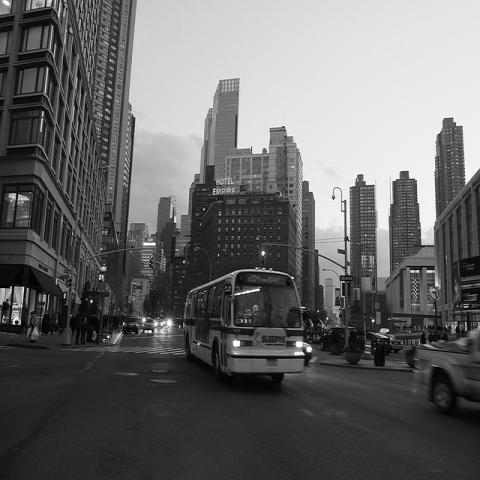bus: (182, 268, 308, 380)
car: (317, 327, 357, 351), (122, 317, 139, 337), (390, 339, 404, 354), (143, 319, 155, 332), (154, 317, 163, 330)
truck: (412, 330, 479, 414)
